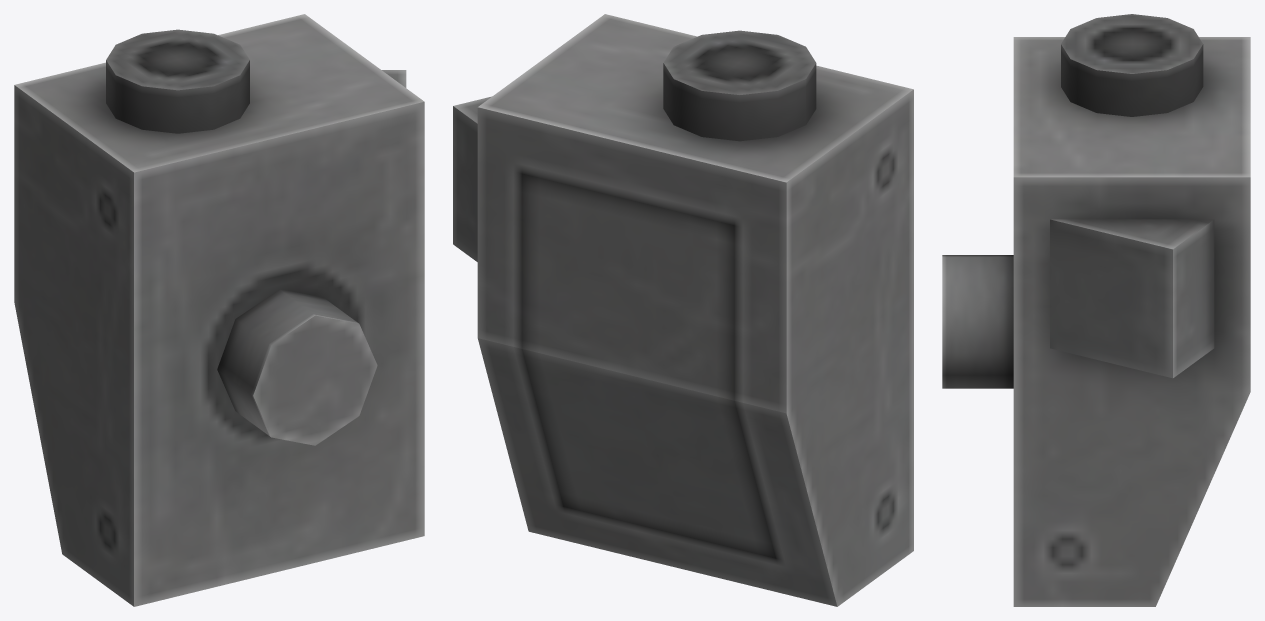
Rendered from 1mv_sensor_cosmis_ray_detector_srf_1_compact.obj.
3 renders of one model, left to right at view 1: azimuth 30°, elevation 25°; view 2: azimuth 150°, elevation 25°; view 3: azimuth 270°, elevation 25°, orthographic. The views are drawn at different scales.
Parts seen in each view (by area): view 1: mesh1; view 2: mesh1; view 3: mesh1.
Boxes of the visible parts, left/top/right/bottom form: mesh1: left=14, top=14, right=424, bottom=606; mesh1: left=453, top=14, right=913, bottom=606; mesh1: left=942, top=14, right=1250, bottom=606.
Size of the model in its own units: 0.2125 by 0.275 by 0.1625.
1 material, 1 textured.
